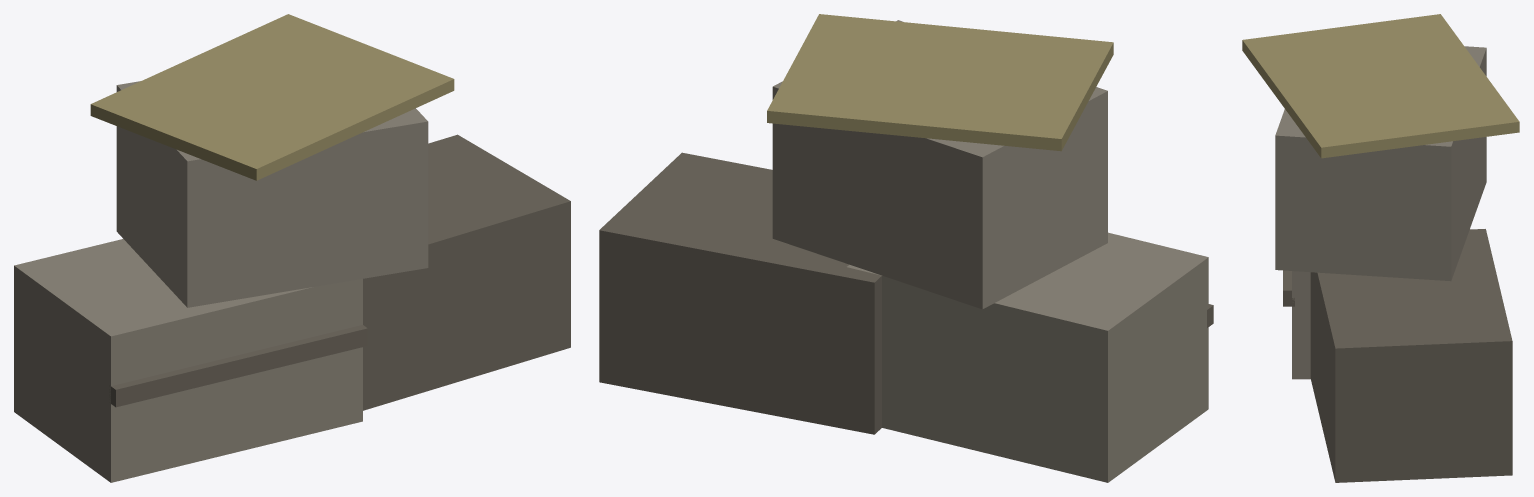
Rendered from a3h_crate_stack.glb.
3 views of the same model, side by side, from view 1: azimuth 30°, elevation 25°; view 2: azimuth 150°, elevation 25°; view 3: azimuth 270°, elevation 25° (orthographic). The views are drawn at different scales.
Visible parts, largest first — view 1: a3h_crate_stack; view 2: a3h_crate_stack; view 3: a3h_crate_stack.
Part boxes in pixels (x1,y1,x2,y2): a3h_crate_stack: (14, 14, 570, 482); a3h_crate_stack: (599, 14, 1213, 482); a3h_crate_stack: (1242, 14, 1519, 482).
Size of the model in its own units: 1.73 by 1.04 by 0.9347.
